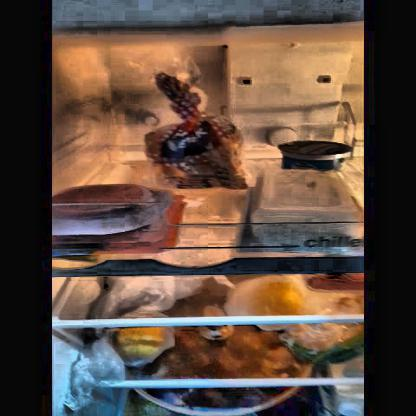cheese: (252, 171, 356, 235)
green_chillies: (283, 325, 364, 364)
lemon: (245, 280, 304, 317), (115, 325, 166, 357)
salami: (56, 182, 161, 235)
yoghurt: (281, 141, 349, 168)
